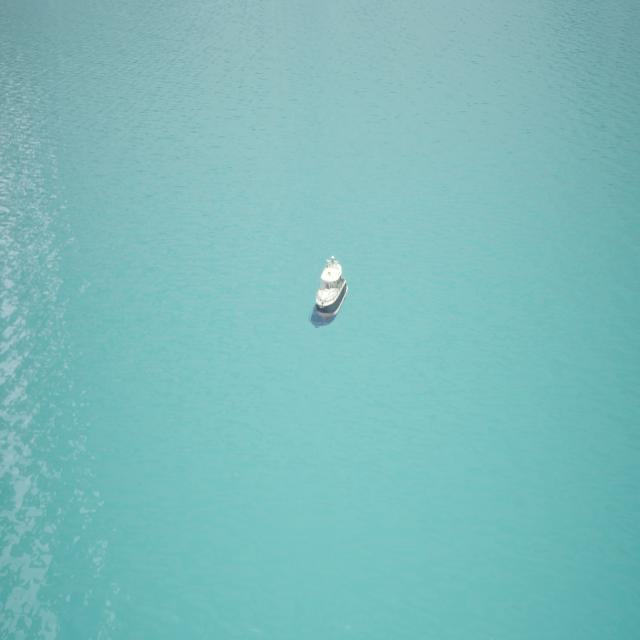ship: (309, 247, 351, 324)
